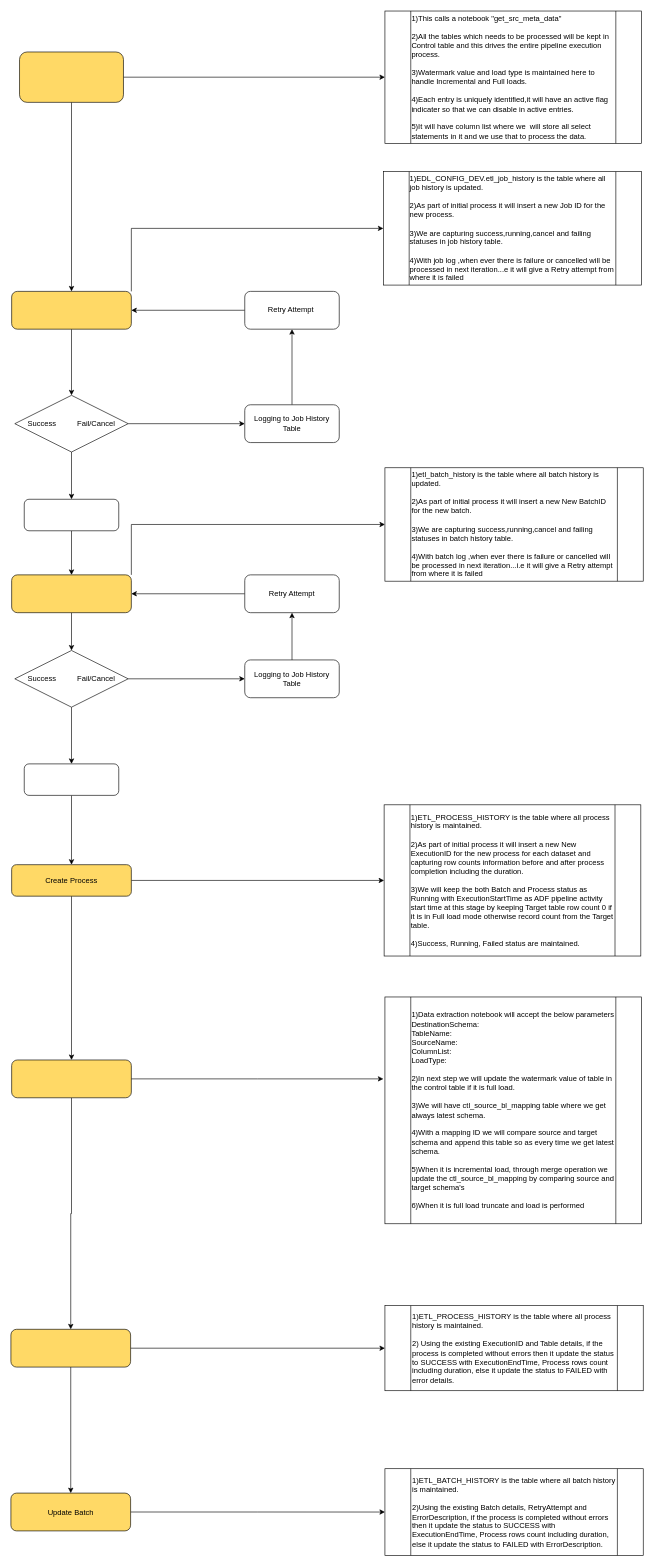
Some shapes in this 655 by 1567 pixel diagram are drawn without their labels. The box of each missing label's shape, as (x1, y1, x2, y2) in pixels:
Create Batch: (11, 574, 131, 613)
Create Job: (11, 291, 131, 329)
Logging to Batch History table on success: (24, 763, 119, 795)
Logging to Job History table on success: (24, 499, 119, 531)
MetaDataLookup: (19, 51, 123, 102)
Source Data Extraction: (11, 1059, 131, 1098)
Update Process: (10, 1329, 131, 1367)
